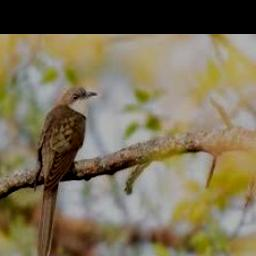Cuckoo: (35, 87, 99, 256)
